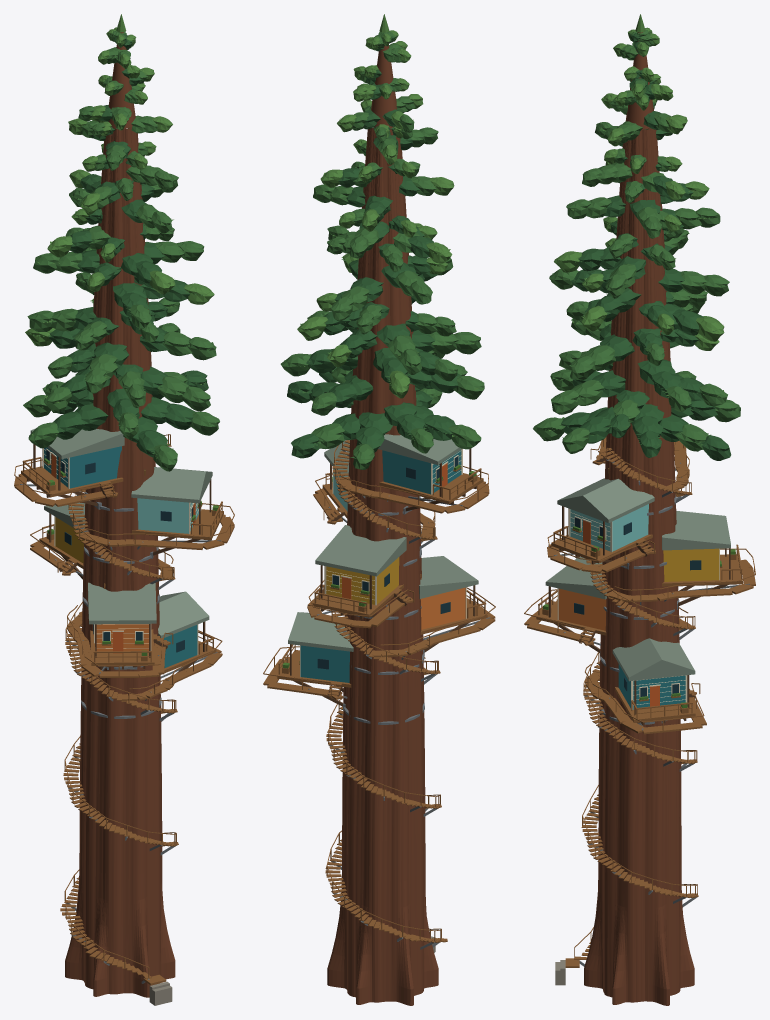
Rendered from village_tree_high.meshopt.glb.
The picture shows the model from 3 angles, left to right: view 1: azimuth 30°, elevation 25°; view 2: azimuth 150°, elevation 25°; view 3: azimuth 270°, elevation 25°; orthographic projection.
Visible parts, largest first — view 1: village_tree_high; view 2: village_tree_high; view 3: village_tree_high.
Boxes of the visible parts, box(x1,y1,x2,y2) form: village_tree_high: box(14, 14, 234, 1005); village_tree_high: box(263, 14, 495, 1005); village_tree_high: box(524, 14, 755, 1005).
Bounding box in the file's own units: 20.29 × 94.2 × 20.4.
